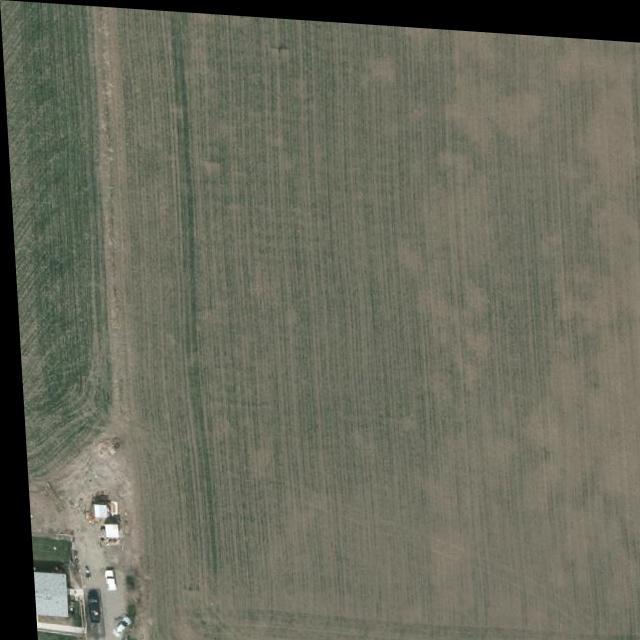vehicle: (104, 611, 126, 640), (80, 590, 95, 622), (96, 568, 110, 591)
